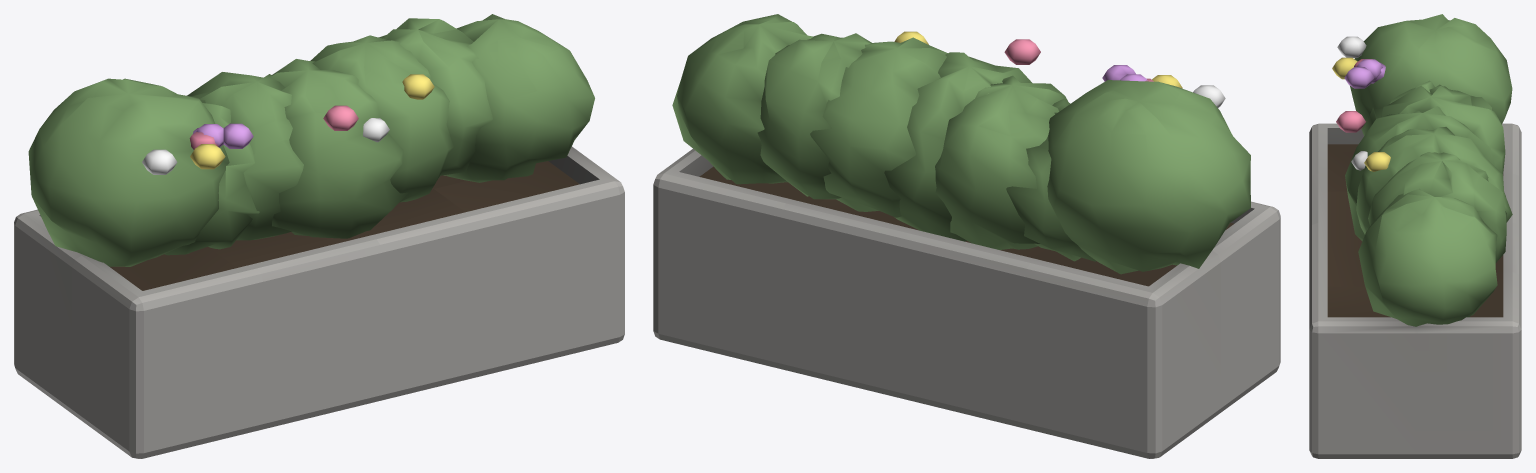
File: st_planter.glb
3 renders of one model, left to right at view 1: azimuth 30°, elevation 25°; view 2: azimuth 150°, elevation 25°; view 3: azimuth 270°, elevation 25°, orthographic. The views are drawn at different scales.
Parts seen in each view (by area): view 1: body; view 2: body; view 3: body.
Boxes of the visible parts, bbox=[...] form: body: bbox=[14, 14, 624, 458]; body: bbox=[653, 14, 1280, 458]; body: bbox=[1309, 14, 1521, 458].
Size of the model in its own units: 1.75 by 0.9526 by 0.7.
